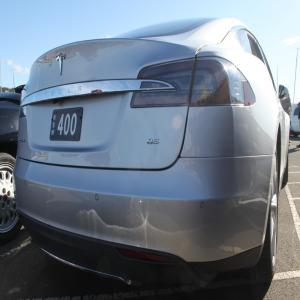Vehicle-registration-plate: (41, 99, 88, 149)
